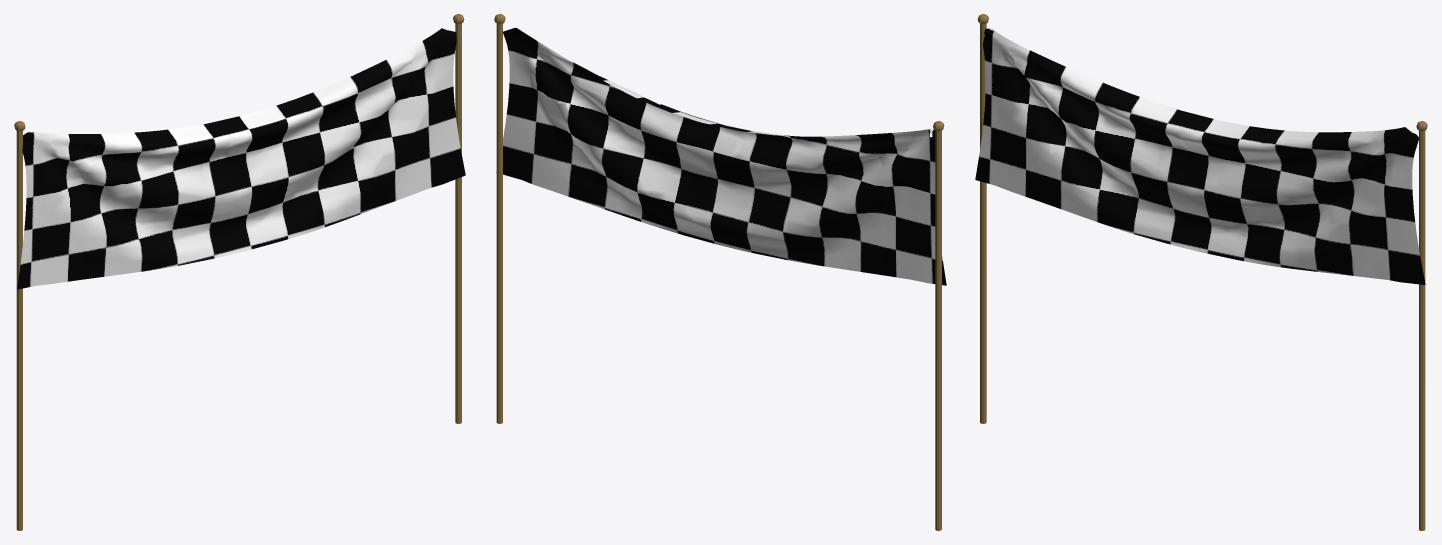
Rendered from Cloth_Flag.fbx.
The picture shows the model from 3 angles, left to right: view 1: azimuth 30°, elevation 25°; view 2: azimuth 150°, elevation 25°; view 3: azimuth 330°, elevation 25°; orthographic projection.
Visible parts, largest first — view 1: Mex_Flag_02:Flag, Mex_Flag_02:Stand1, Mex_Flag_02:Stand2; view 2: Mex_Flag_02:Flag, Mex_Flag_02:Stand2, Mex_Flag_02:Stand1; view 3: Mex_Flag_02:Flag, Mex_Flag_02:Stand2, Mex_Flag_02:Stand1.
Boxes of the visible parts, x1,y1,x2,y2 form: Mex_Flag_02:Flag: (17,28,465,289); Mex_Flag_02:Stand1: (14,121,25,530); Mex_Flag_02:Stand2: (453,14,464,423); Mex_Flag_02:Flag: (496,27,946,285); Mex_Flag_02:Stand2: (494,14,505,423); Mex_Flag_02:Stand1: (933,121,944,530); Mex_Flag_02:Flag: (975,28,1425,284); Mex_Flag_02:Stand2: (1416,121,1427,530); Mex_Flag_02:Stand1: (977,14,988,423).
Bounding box in the file's own units: 15.7 × 13.59 × 0.7594.
2 materials, 1 textured.
